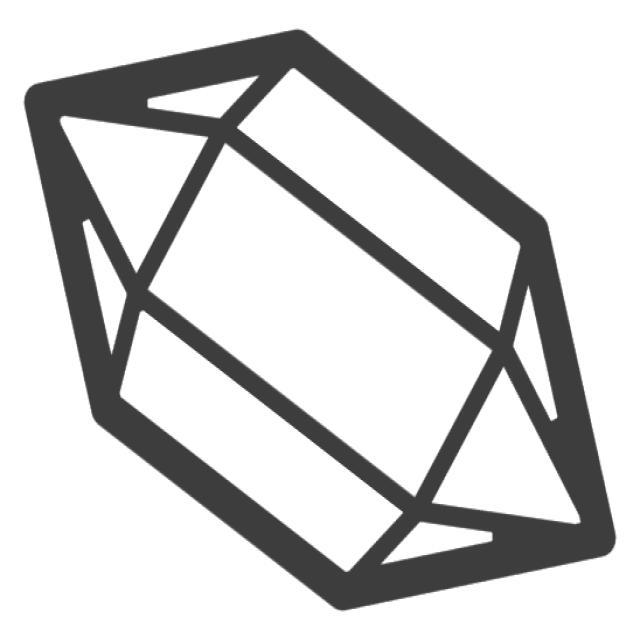crystal: (8, 17, 626, 626)
